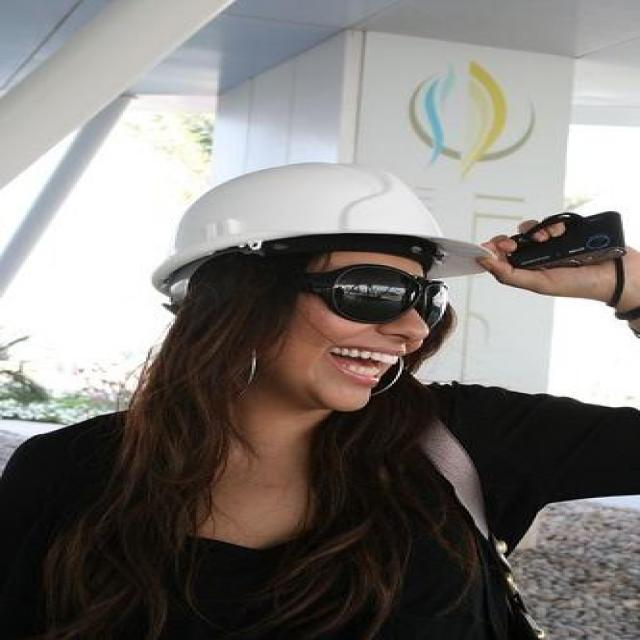Safety-Helmet: (142, 154, 498, 288)
